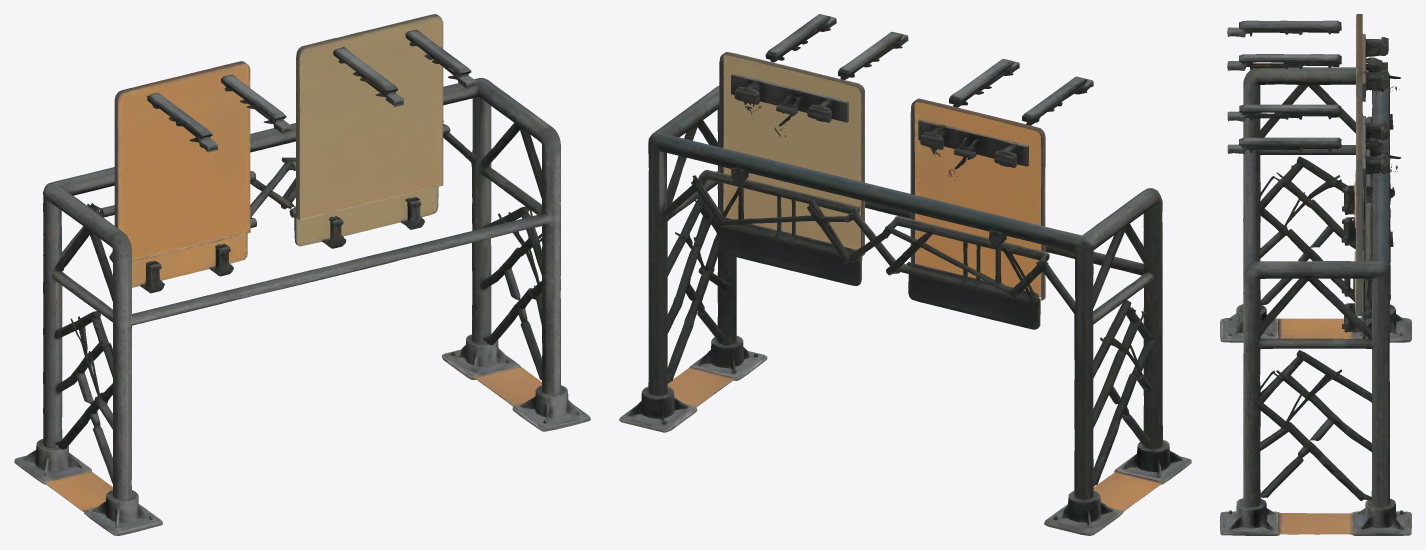
File: overhead-gantry.glb
3 views of the same model, side by side, from view 1: azimuth 30°, elevation 25°; view 2: azimuth 150°, elevation 25°; view 3: azimuth 270°, elevation 25° (orthographic). The views are drawn at different scales.
Visible parts, largest first — view 1: geometry_0; view 2: geometry_0; view 3: geometry_0.
Part boxes in pixels (x1,y1,x2,y2): geometry_0: (14,14,590,535); geometry_0: (619,14,1191,535); geometry_0: (1220,14,1411,535).
Bounding box in the file's own units: 1 × 0.7461 × 0.3764.
1 material, 1 textured.
